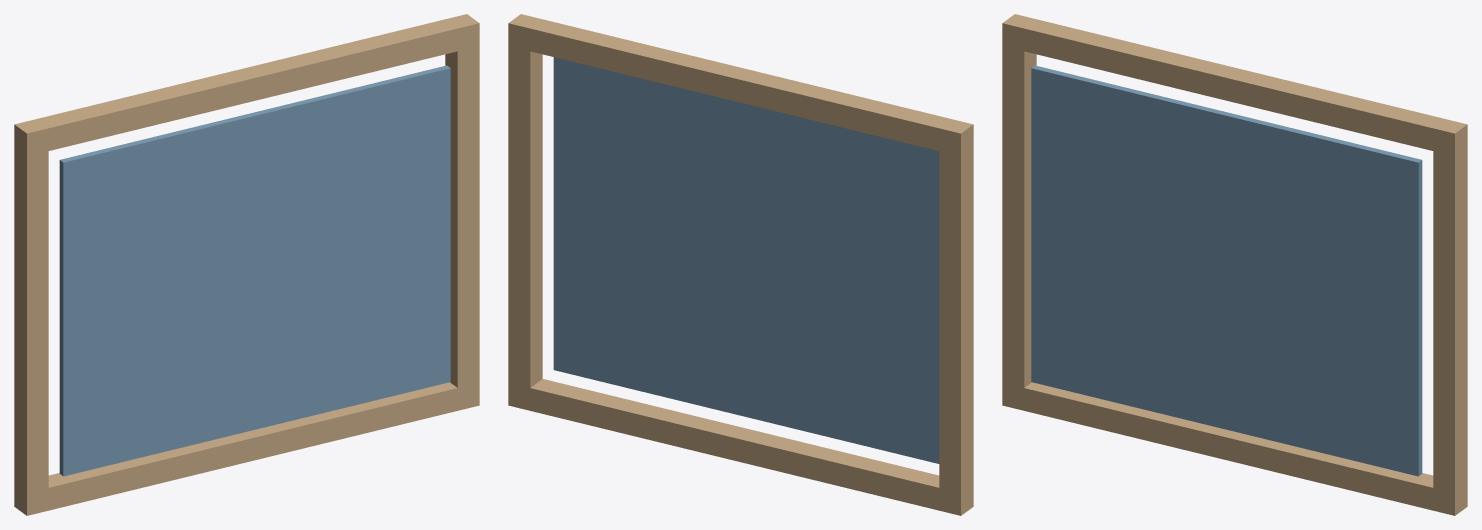
File: art_frame_05.glb
3 views of the same model, side by side, from view 1: azimuth 30°, elevation 25°; view 2: azimuth 150°, elevation 25°; view 3: azimuth 330°, elevation 25° (orthographic).
Visible parts, largest first — view 1: art, h0.63, h0, v-0.395, v0.395; view 2: art, h0.63, h0, v-0.395, v0.395; view 3: art, h0.63, h0, v0.395, v-0.395.
Boxes of the visible parts, x1,y1,x2,y2 form: art: [59, 65, 450, 476]; h0.63: [14, 14, 479, 156]; h0: [14, 382, 479, 515]; v-0.395: [14, 136, 48, 504]; v0.395: [445, 35, 479, 399]; art: [553, 57, 939, 463]; h0.63: [508, 14, 973, 156]; h0: [508, 379, 973, 515]; v-0.395: [939, 136, 973, 504]; v0.395: [508, 34, 542, 399]; art: [1031, 65, 1422, 476]; h0.63: [1002, 14, 1467, 155]; h0: [1002, 382, 1467, 515]; v0.395: [1433, 136, 1467, 504]; v-0.395: [1002, 35, 1036, 399].
Bounding box in the file's own units: 0.83 × 0.67 × 0.052.
